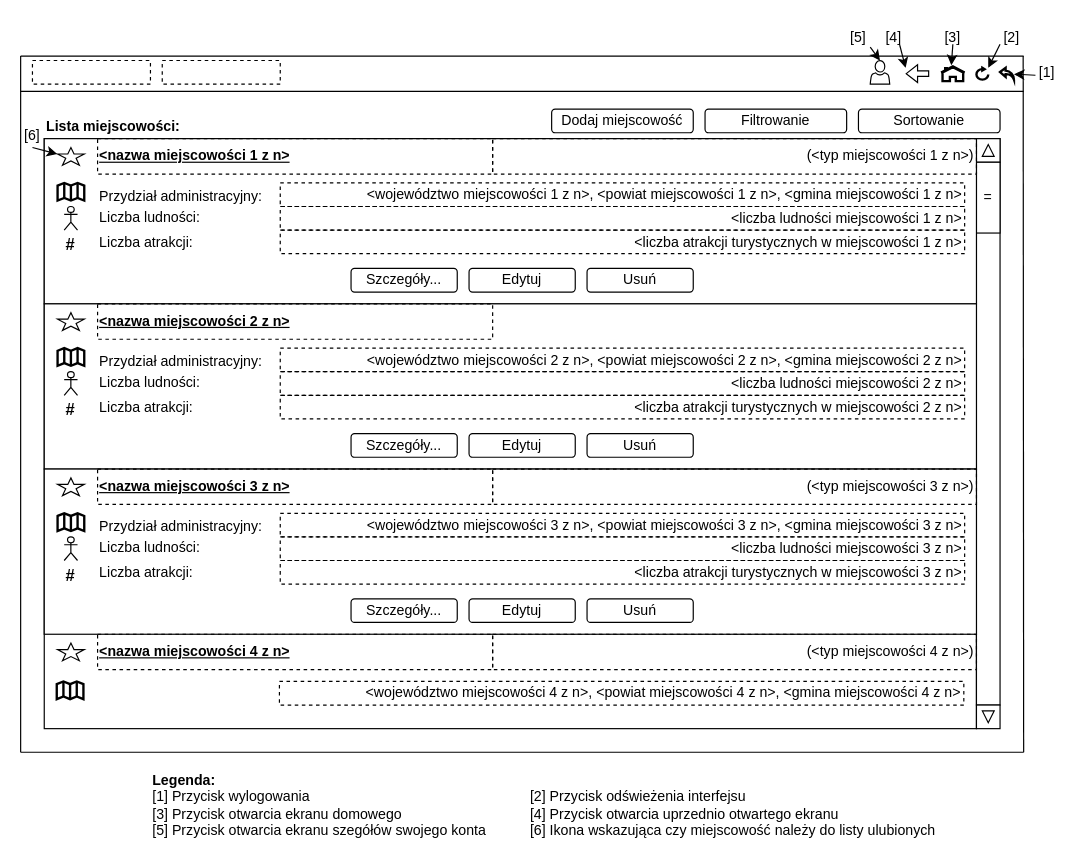
Image size: 1080x866. Some labels were removed from this diagram. The shapes that lost their labels are listed below. From the top down, each one's box as (x1, y1, x2, y2) in pixels, then its label:
(31, 59, 150, 84): login
(161, 59, 280, 84): rola
